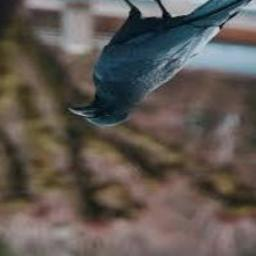Crow: (69, 0, 256, 127)
